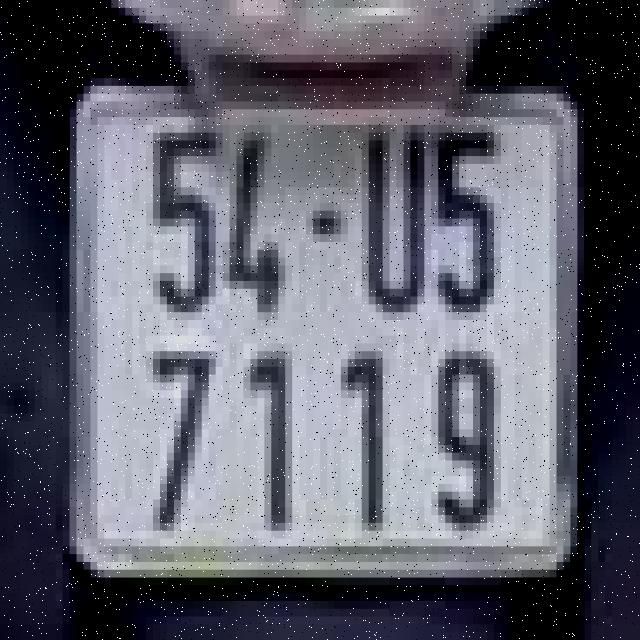1: (323, 344, 407, 554), (247, 344, 310, 538)
4: (226, 117, 296, 328)
5: (431, 117, 515, 328), (143, 121, 226, 316)
7: (122, 340, 219, 542)
9: (424, 344, 508, 546)
U: (351, 109, 428, 328)
